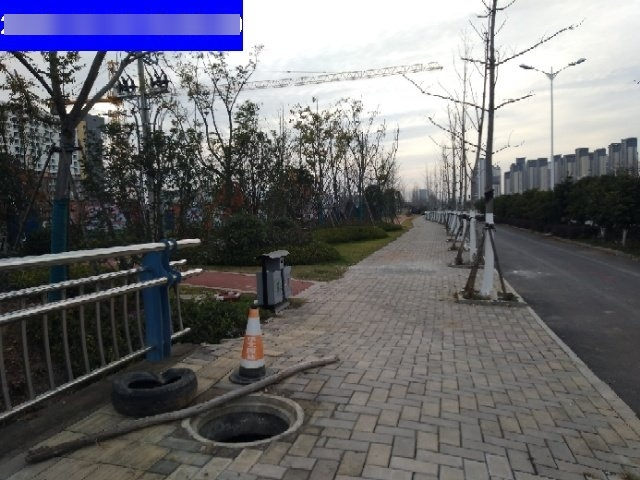lose: (181, 394, 306, 449)
